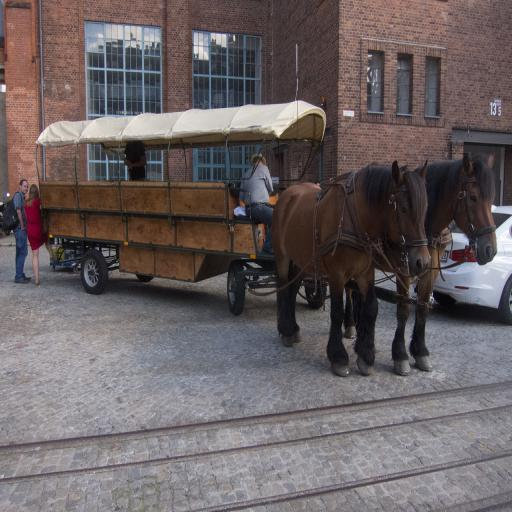horse: (271, 158, 433, 376), (342, 150, 498, 374)
